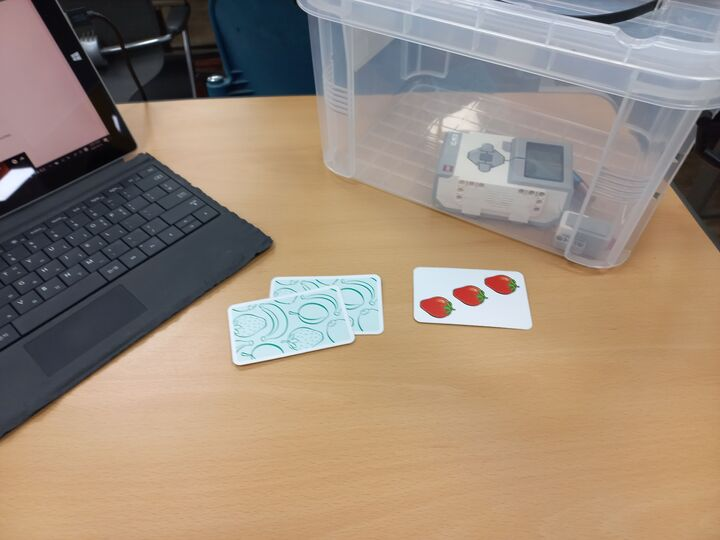strawberry3: (412, 266, 533, 330)
